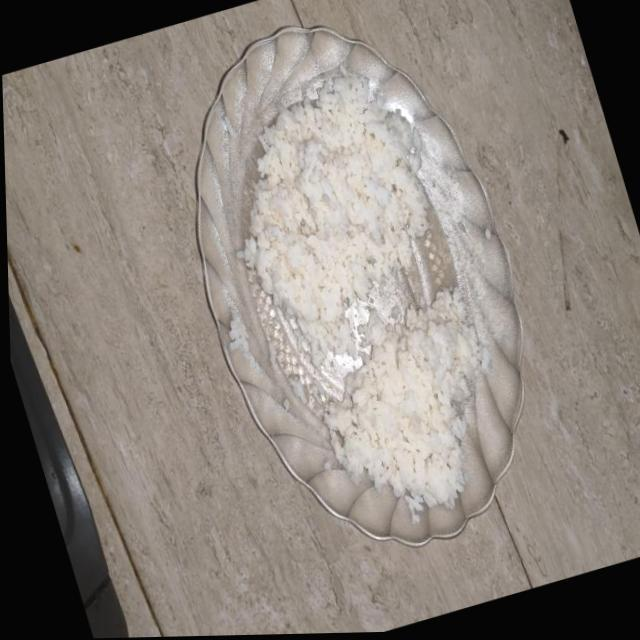nasi_putih: (237, 76, 443, 367), (324, 288, 489, 522)
